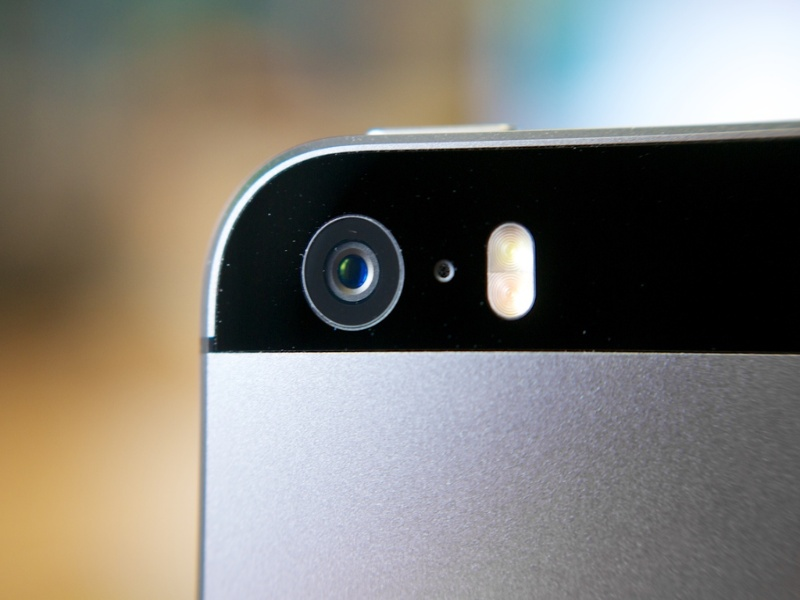Mobile Phone: (149, 97, 800, 600)
